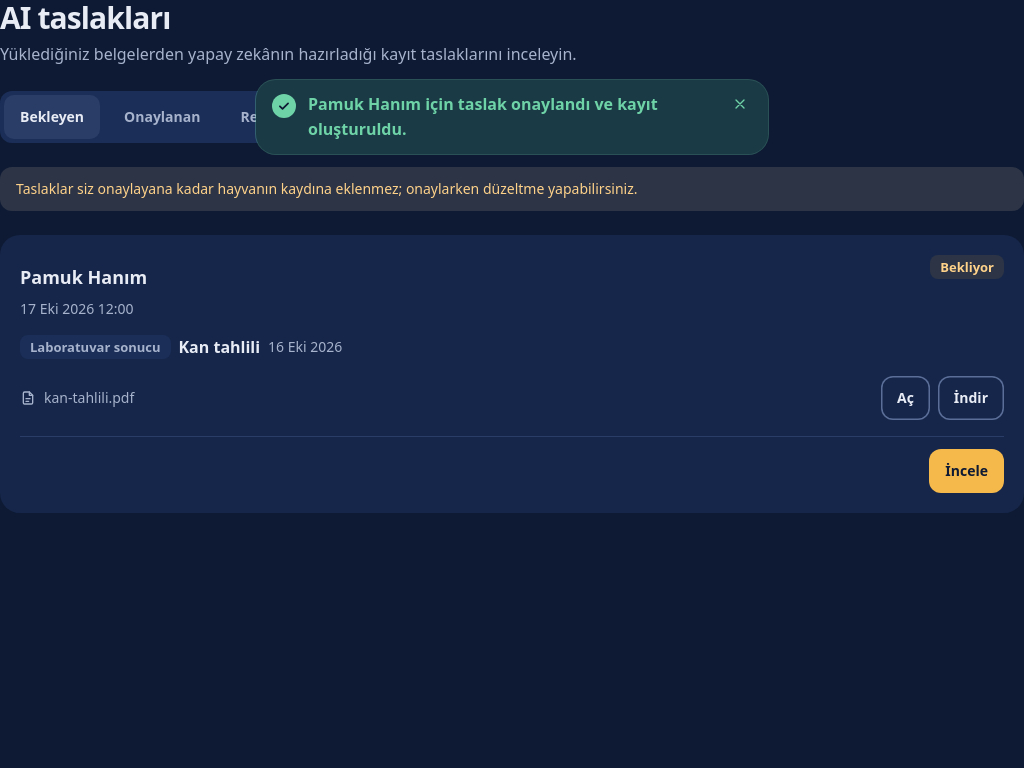
Test: DraftsPage › güven 0.5 iken düşük güven uyarısı görünürlüğü: true
Click the button "İncele" at (967, 471), box [929,449,1004,493]
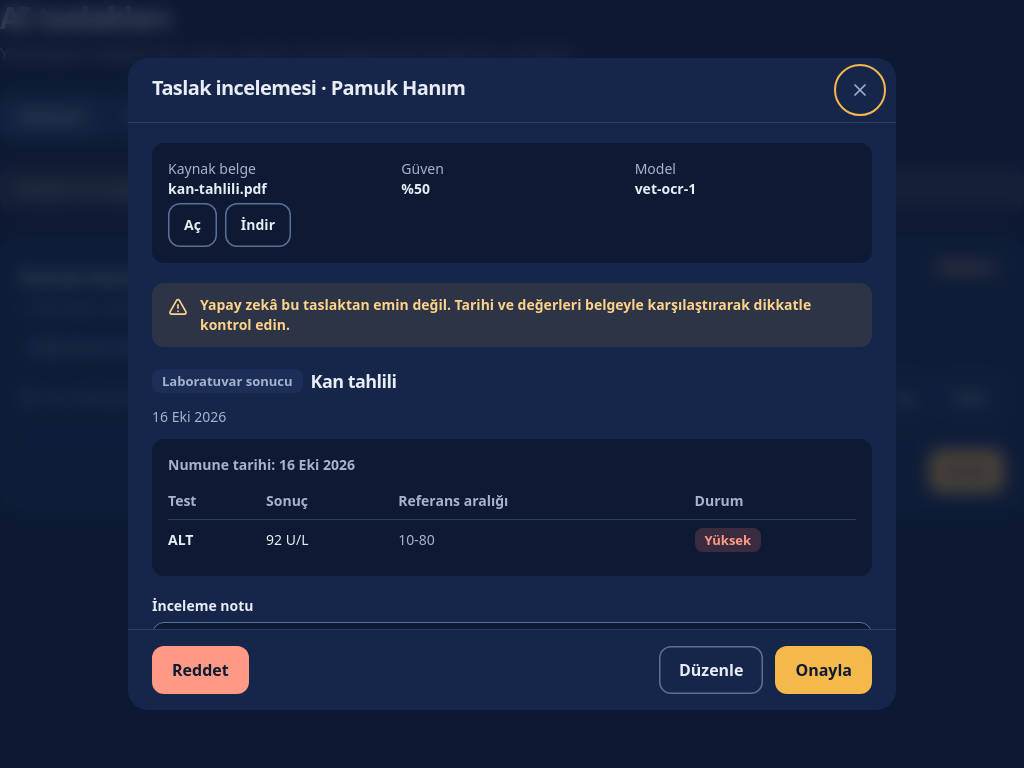
Check: the text "Yapay zekâ bu taslaktan emin değil. Tarihi ve değerleri belgeyle karşılaştırarak dikkatle kontrol edin." is shown, box [200,295,811,334]
Check: the button "Onayla" is enabled, box [775,646,872,694]
